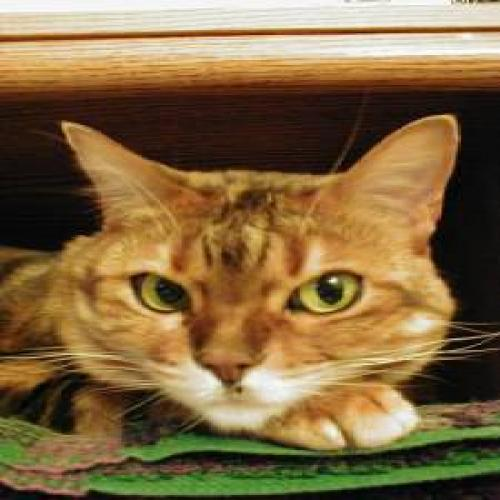bengal: (44, 113, 487, 445)
